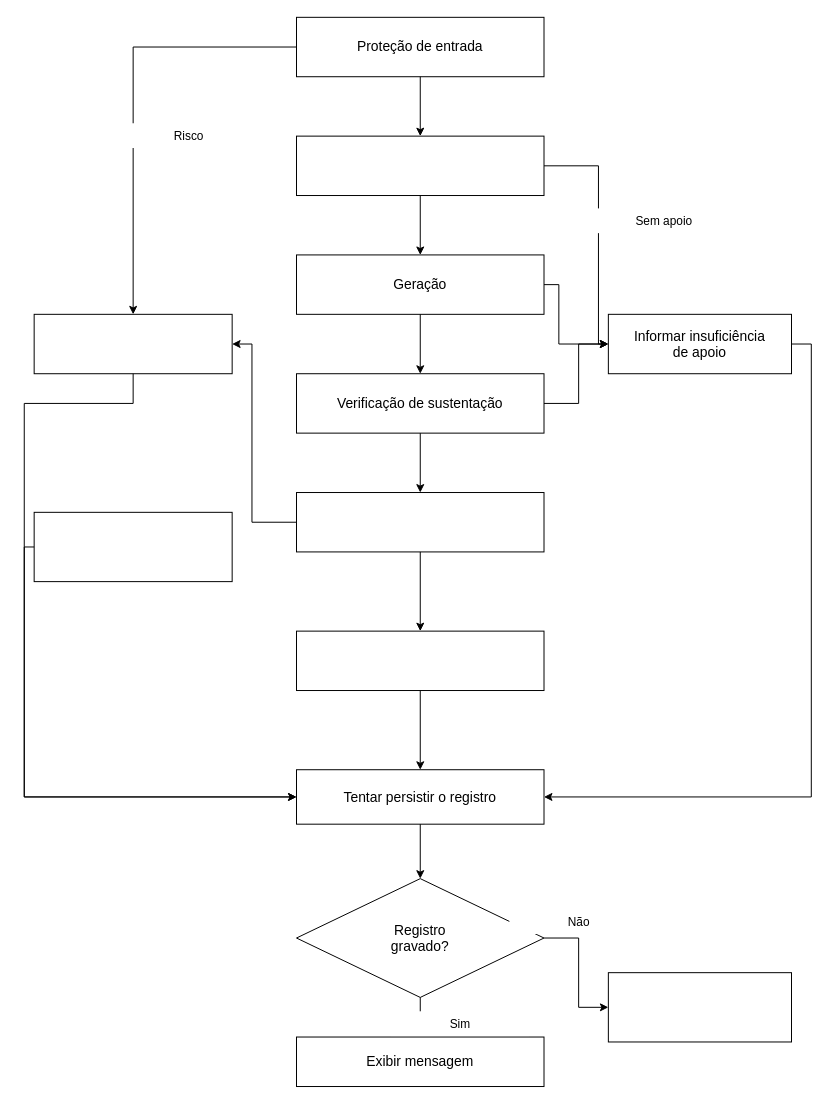
Some shapes in this 837 by 1104 pixel diagram are drawn without their labels. Here are the shapes that lost their labels. From the top down, the centre of each, then its label:
At (x=420, y=165): "Recuperação".
At (x=132, y=343): "Bloqueio ou orientação de cuidado".
At (x=420, y=522): "Proteção de saída".
At (x=132, y=546): "Falha em qualquer etapa: tentativa não concluída".
At (x=420, y=660): "Resposta com fontes".
At (x=699, y=1007): "Reter resposta e retornar erro de persistência".
